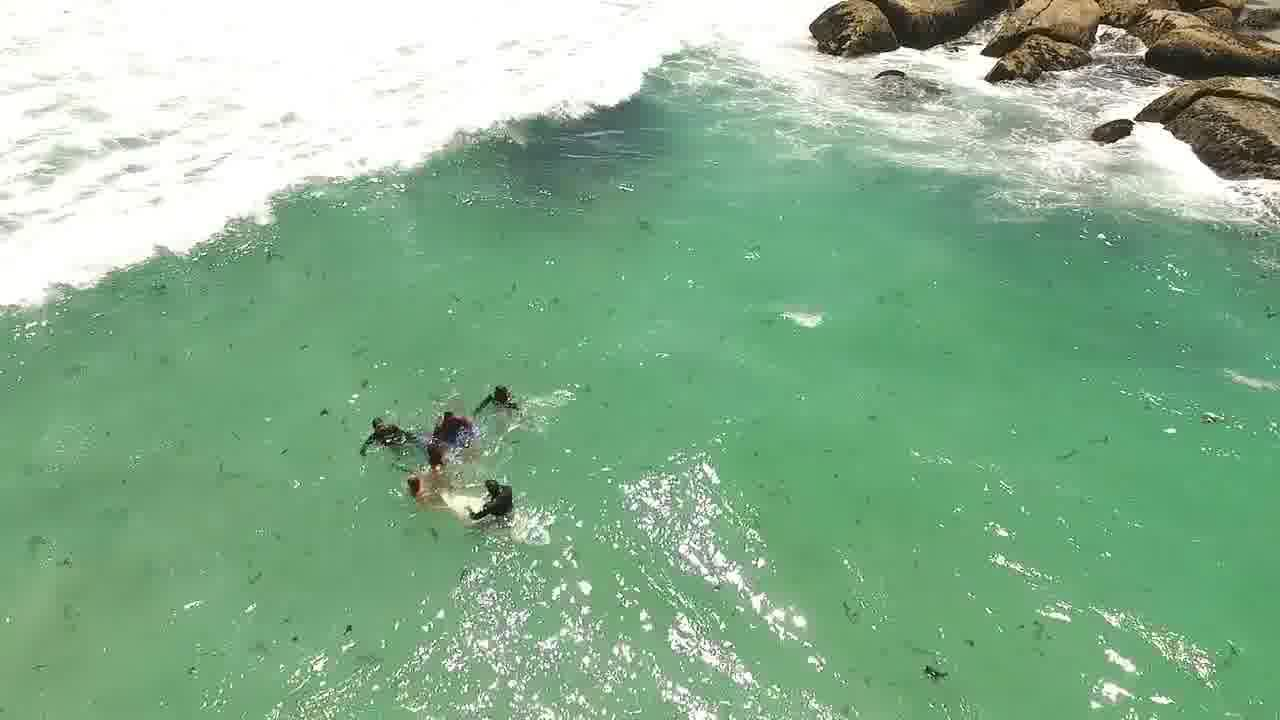swimmer: (481, 467, 521, 519), (400, 467, 441, 508), (433, 401, 466, 434), (488, 371, 519, 406), (360, 406, 391, 435), (416, 437, 448, 459)
